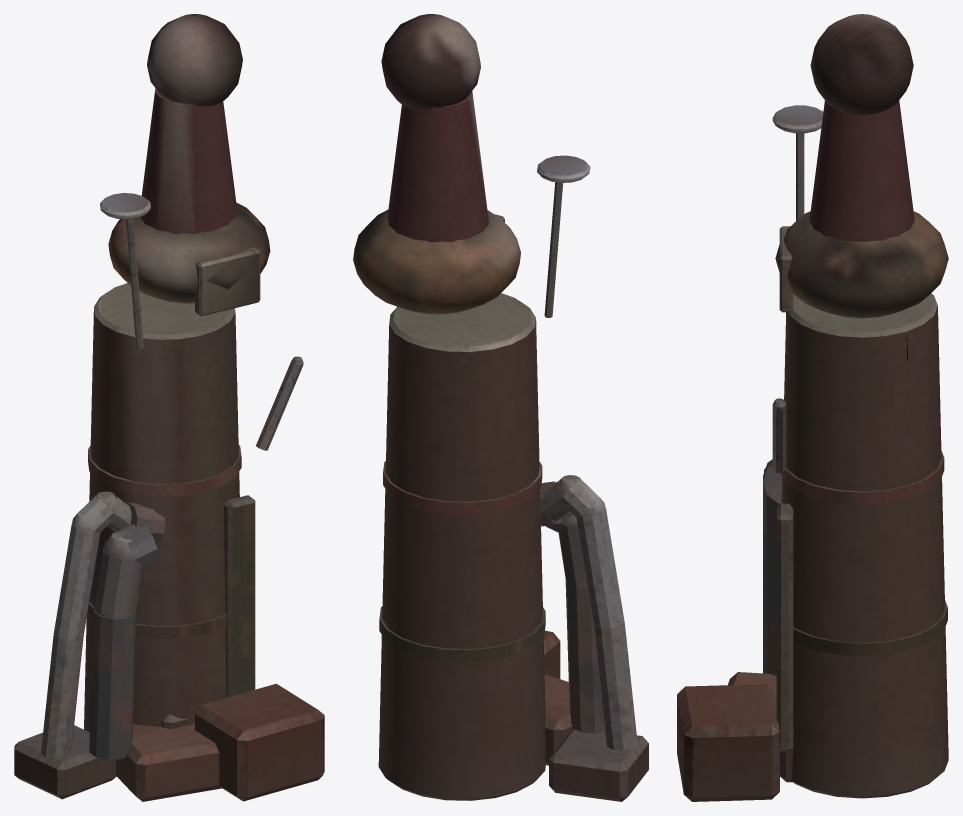
The model's file is fulgoran-ruin-attractor.glb.
3 views of the same model, side by side, from view 1: azimuth 30°, elevation 25°; view 2: azimuth 150°, elevation 25°; view 3: azimuth 270°, elevation 25° (orthographic). The views are drawn at different scales.
Parts seen in each view (by area): view 1: body; view 2: body; view 3: body.
Boxes of the visible parts, x1,y1,x2,y2 form: body: (14,14,324,801); body: (353,14,648,801); body: (677,14,948,801).
Size of the model in its own units: 2.28 by 6.09 by 1.97.
1 material, 1 textured.
